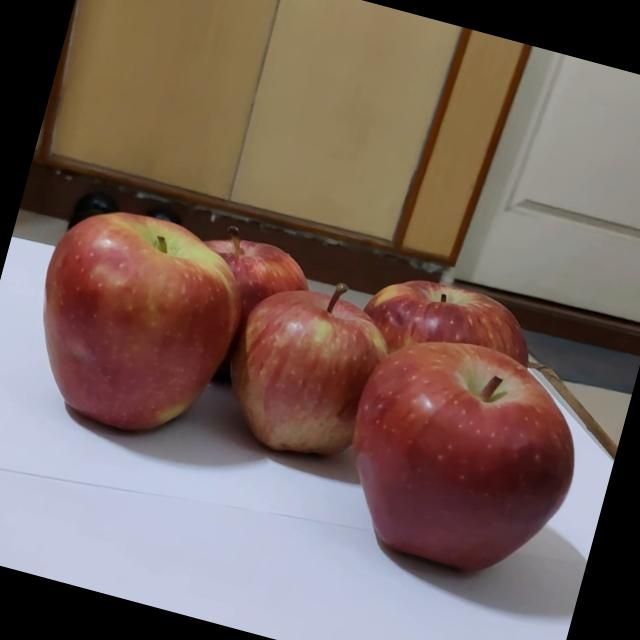apple: (252, 340, 541, 638), (345, 264, 582, 495), (10, 215, 240, 450), (186, 280, 390, 483), (188, 216, 360, 384)
